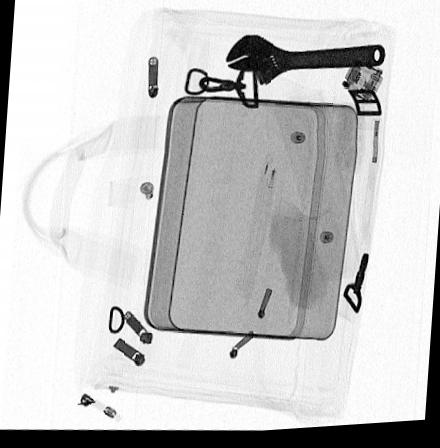Wrench: (224, 38, 387, 88)
